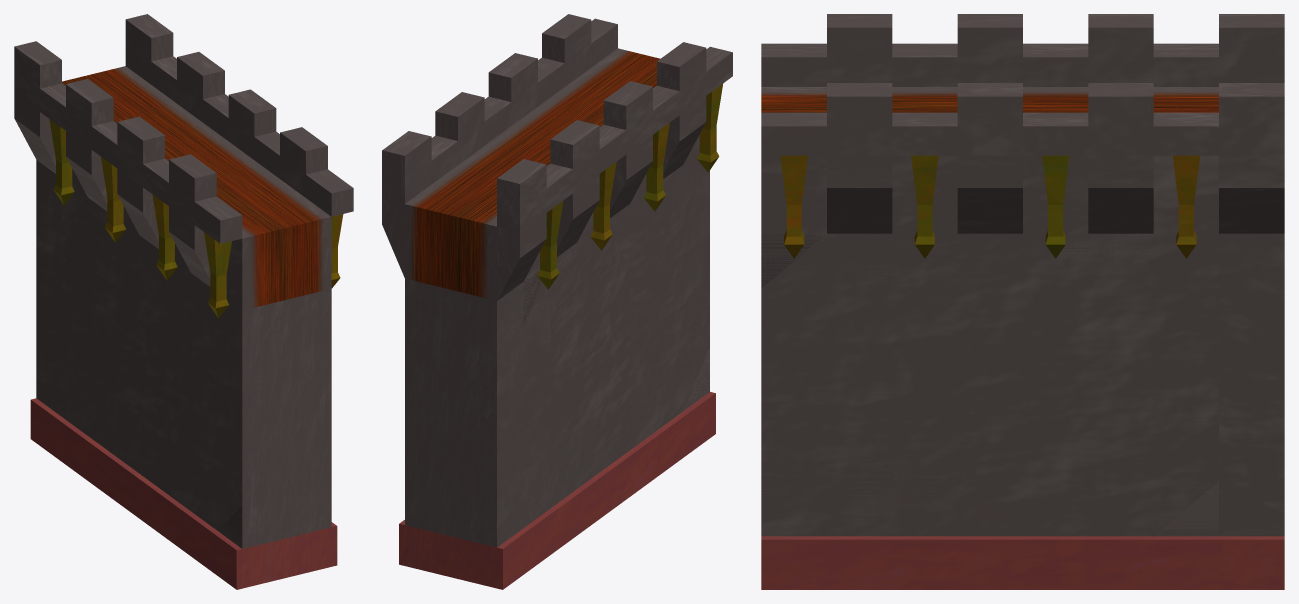
Rendered from Walls.fbx.
The picture shows the model from 3 angles, left to right: view 1: azimuth 30°, elevation 25°; view 2: azimuth 150°, elevation 25°; view 3: azimuth 270°, elevation 25°; orthographic projection. The views are drawn at different scales.
Parts seen in each view (by area): view 1: WallBlank, WallWindow, WallDoor; view 2: WallBlank, WallDoor, WallWindow; view 3: WallBlank, WallWindow, WallDoor.
Boxes of the visible parts, x1,y1,x2,y2 form: WallBlank: (14,14,353,589); WallWindow: (36,52,331,552); WallDoor: (36,161,331,547); WallBlank: (382,14,732,589); WallDoor: (405,154,709,550); WallWindow: (405,14,709,549); WallBlank: (761,14,1284,589); WallWindow: (761,14,1284,589); WallDoor: (761,233,1284,589).
Size of the model in its own units: 5.98 by 17 by 16.
Materials: 3 (3 with a texture image).
